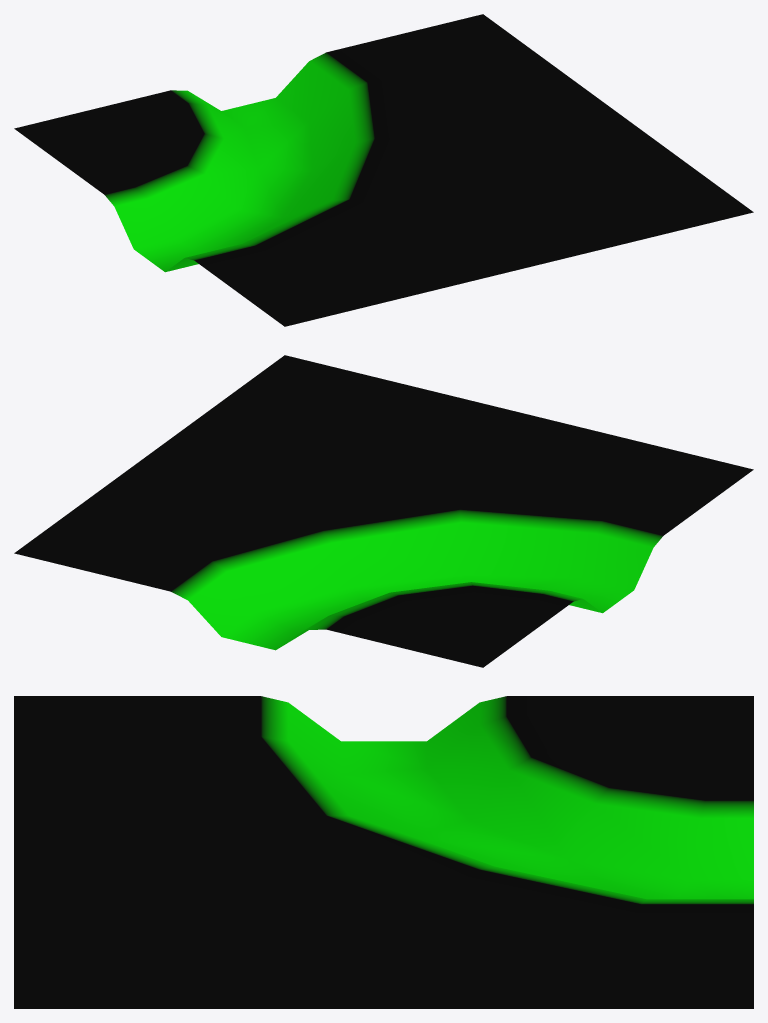
File: SM_Ground_16m_RiverCornerL.FBX
The picture shows the model from 3 angles, top to bottom: view 1: azimuth 30°, elevation 25°; view 2: azimuth 150°, elevation 25°; view 3: azimuth 270°, elevation 25°; orthographic projection. The views are drawn at different scales.
Visible parts, largest first — view 1: SM_Ground_16m_RiverCornerL; view 2: SM_Ground_16m_RiverCornerL; view 3: SM_Ground_16m_RiverCornerL.
Part boxes in pixels (left/top/right/bottom): SM_Ground_16m_RiverCornerL: left=14, top=14, right=753, bottom=326; SM_Ground_16m_RiverCornerL: left=14, top=355, right=753, bottom=667; SM_Ground_16m_RiverCornerL: left=14, top=696, right=753, bottom=1008.
Size of the model in its own units: 1600 by 1600 by 108.
